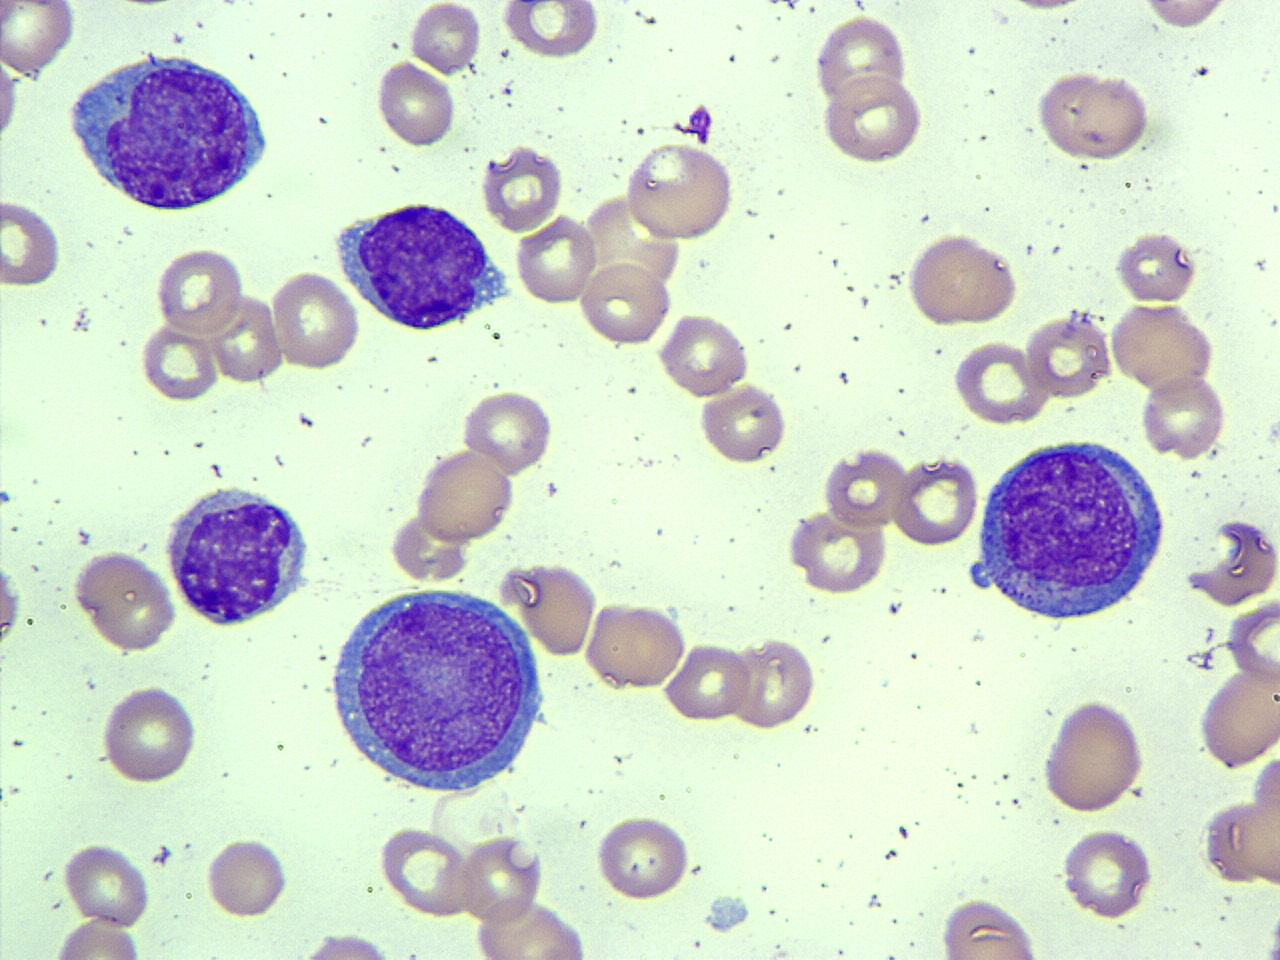Platelets: (702, 892, 752, 934), (686, 102, 716, 144), (1266, 916, 1280, 959), (0, 488, 13, 507)
RBC: (1041, 696, 1147, 816), (622, 140, 736, 246), (905, 229, 1022, 328), (71, 548, 180, 654), (1035, 68, 1153, 163), (1107, 300, 1219, 399), (97, 682, 202, 786), (413, 448, 519, 544), (268, 267, 363, 373), (585, 598, 689, 694), (819, 70, 925, 164), (508, 557, 600, 662), (813, 12, 910, 109), (1056, 826, 1156, 920), (1196, 661, 1280, 772), (375, 825, 473, 920), (594, 810, 694, 902), (786, 509, 890, 596), (1188, 514, 1280, 610), (951, 337, 1049, 427), (459, 387, 558, 476), (576, 259, 676, 347), (155, 244, 245, 340), (890, 453, 980, 548), (732, 635, 818, 733), (60, 838, 153, 928), (657, 310, 752, 398), (512, 213, 600, 308), (1140, 371, 1230, 461), (1024, 311, 1113, 400), (203, 832, 293, 920), (660, 639, 753, 724), (207, 288, 286, 387), (696, 382, 790, 465), (821, 446, 911, 532), (480, 142, 566, 232), (461, 832, 544, 924), (375, 58, 457, 149), (470, 898, 592, 958), (936, 894, 1042, 960), (1112, 228, 1202, 304), (138, 320, 220, 403), (0, 195, 64, 291), (498, 1, 602, 59), (408, 0, 483, 77), (0, 0, 79, 73), (1224, 596, 1280, 688), (43, 916, 152, 958), (286, 928, 408, 959), (1133, 0, 1233, 35), (0, 45, 21, 156), (0, 554, 22, 654)
WBC: (325, 580, 547, 800), (966, 430, 1170, 626), (66, 44, 274, 217), (330, 196, 512, 335), (160, 480, 315, 630)
